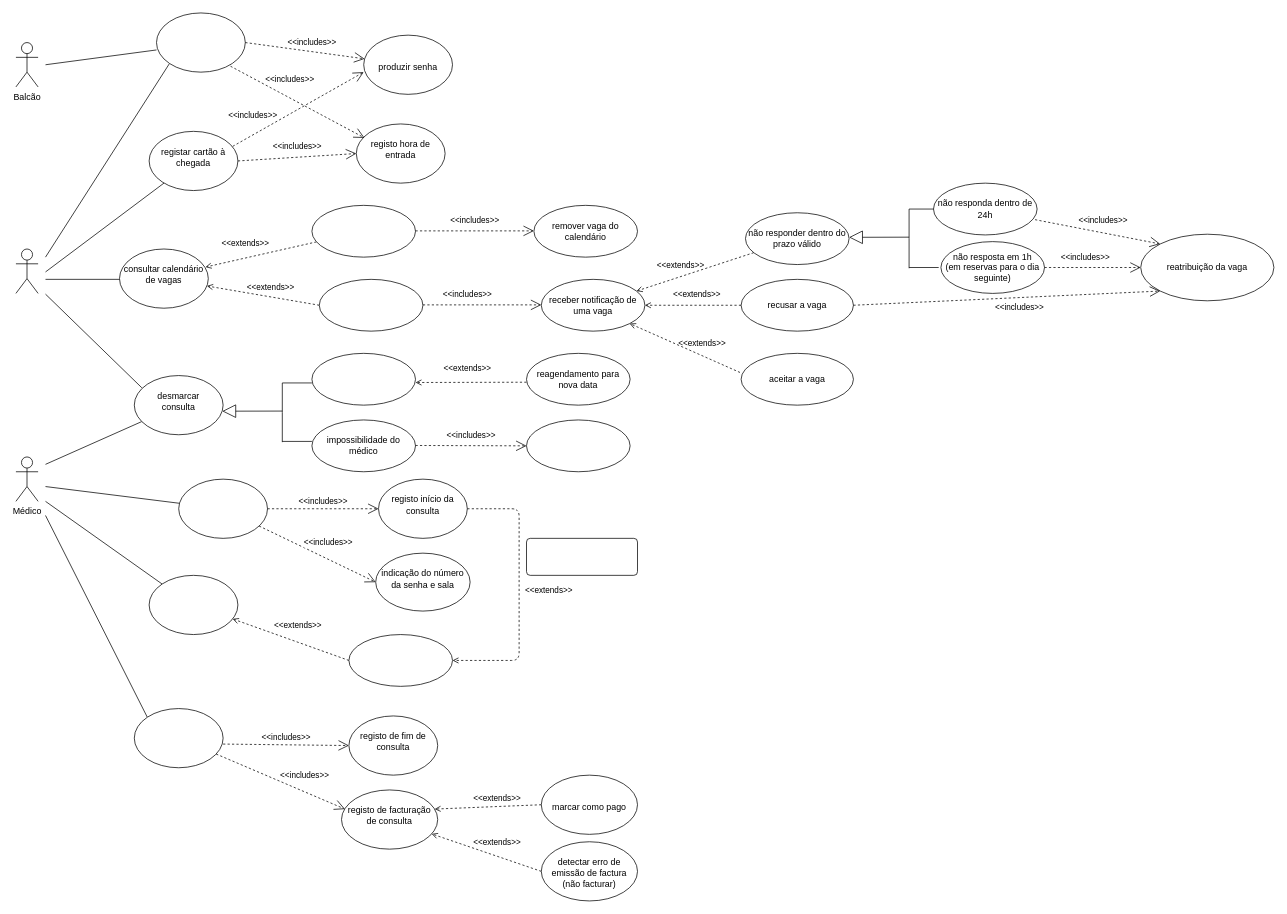
Some shapes in this 1287 by 914 pixel diagram are drawn without their labels. Each missing label, with the centre of its shape:
aguarda novo agendamento: the point at 578,445
cancelamento de consulta: the point at 193,605
chamar utente: the point at 223,508
comunicação da chegada do utente: the point at 200,42
condition[utente comparece dentro dos 10 minutos de tolerância]: the point at 582,556
desistência do utente: the point at 363,379
falta de comparência do utente: the point at 400,660
fecho de consulta: the point at 178,738
ficar em lista de espera: the point at 371,305
marcar consulta: the point at 363,231
Utente: the point at 26,270
